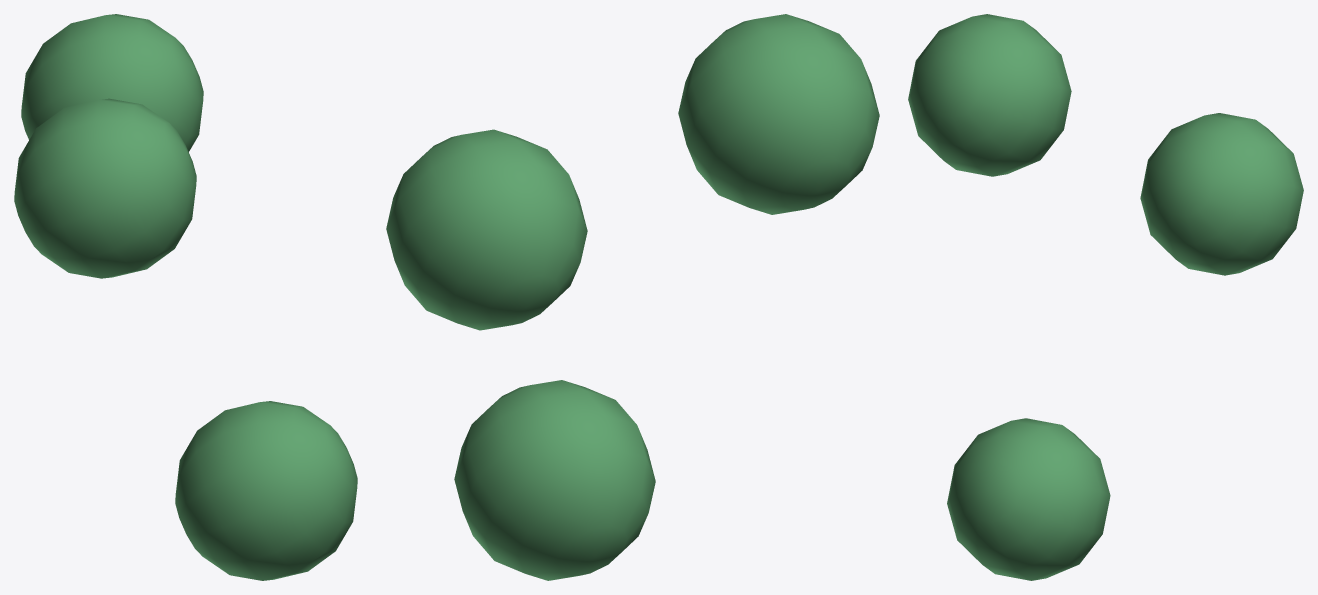
3 renders of one model, left to right at view 1: azimuth 30°, elevation 25°; view 2: azimuth 150°, elevation 25°; view 3: azimuth 270°, elevation 25°, orthographic. The views are drawn at different scales.
Visible parts, largest first — view 1: 右侧耳前淋巴结; view 2: 右侧耳前淋巴结; view 3: 右侧耳前淋巴结.
Boxes of the visible parts, x1,y1,x2,y2 form: 右侧耳前淋巴结: (14,14,357,580); 右侧耳前淋巴结: (386,14,879,580); 右侧耳前淋巴结: (908,14,1303,580).
Bounding box in the file's own units: 0.00821 × 0.0121 × 0.00921.
